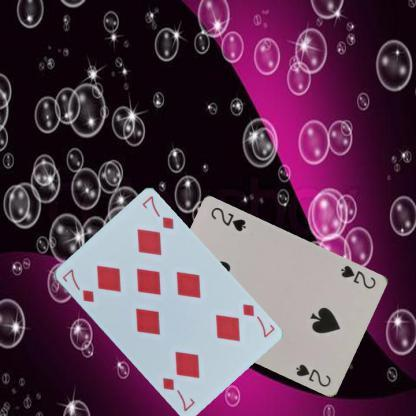2s: (339, 262, 377, 290)
7d: (239, 301, 276, 339), (59, 266, 95, 304)
